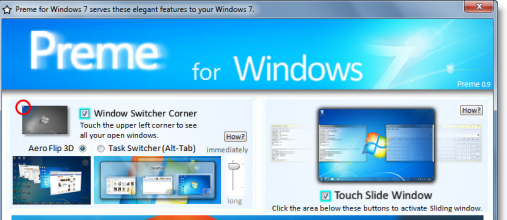close: (463, 1, 494, 12)
